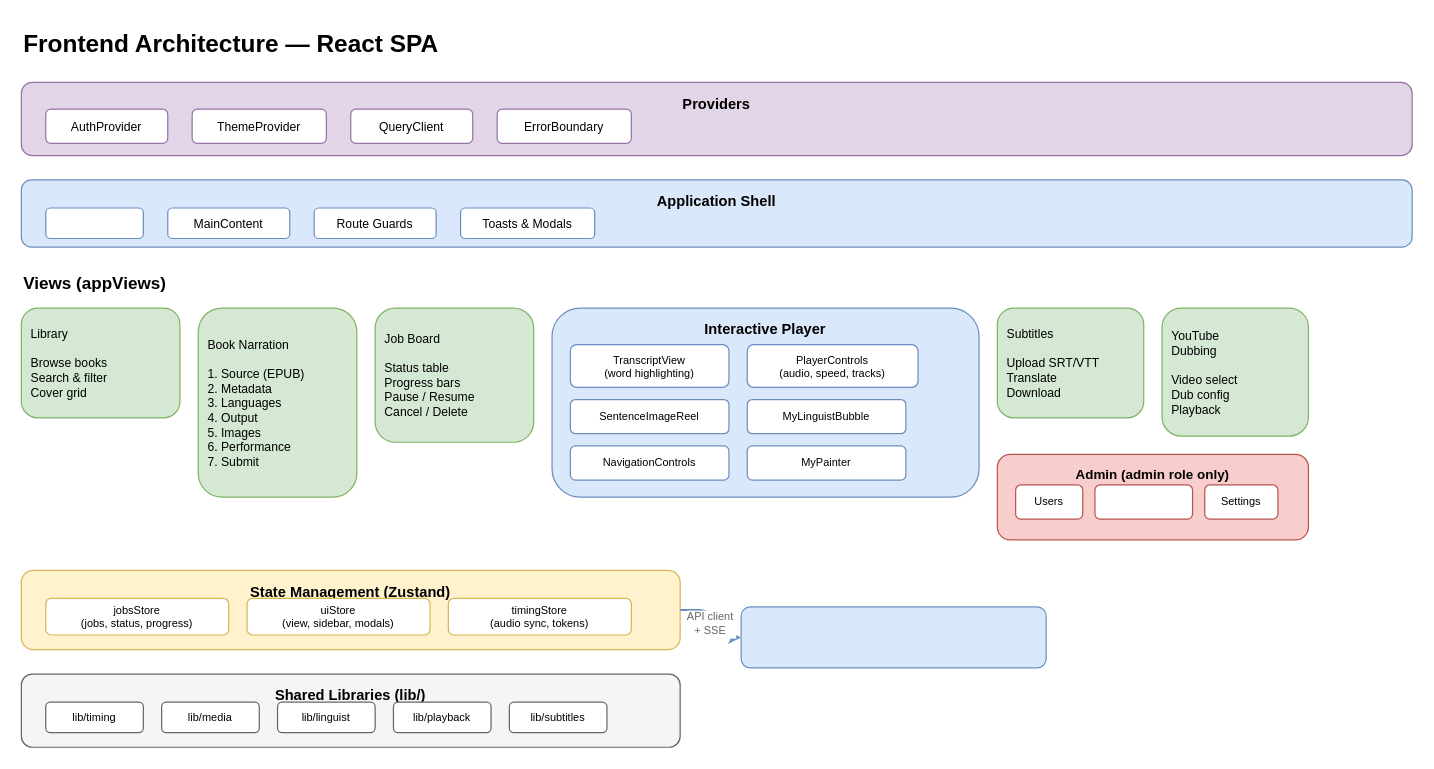
Some shapes in this 1434 by 769 pixel diagram are drawn without their labels. Here are the shapes that lost their labels. From the top down, the centre of each, then its label:
At (94,223): "Sidebar".
At (1143,501): "Reading Beds".
At (893,637): "Backend API (FastAPI :8000) REST + SSE + Storage".
